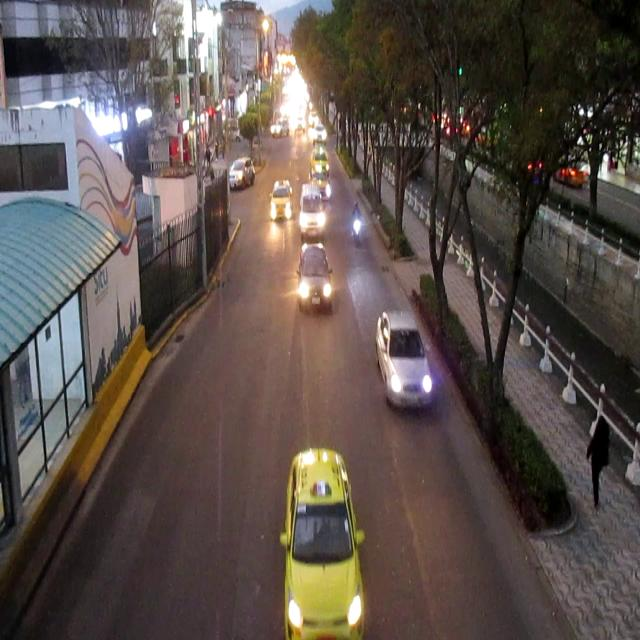MOTORCYCLE: (352, 195, 364, 242)
SUV: (301, 245, 335, 310), (232, 160, 255, 190)
